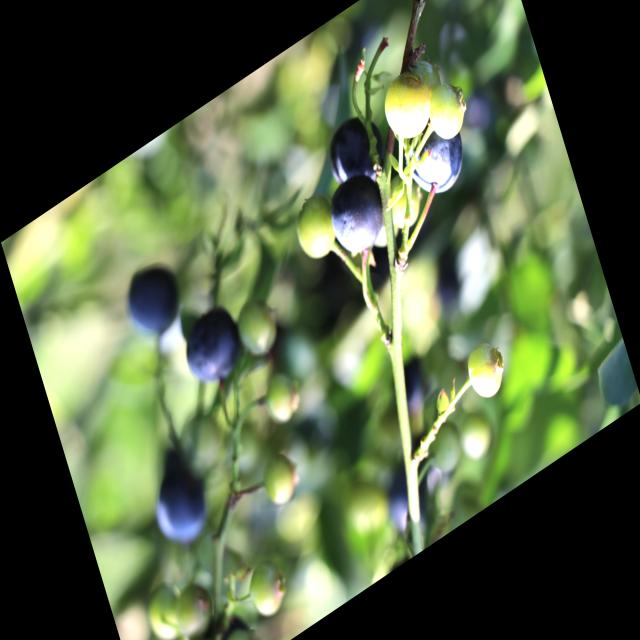blueberry: (144, 451, 219, 560), (321, 162, 395, 268), (400, 107, 474, 212), (177, 298, 250, 401), (120, 248, 188, 350), (320, 102, 391, 198)
blueberry-unripe: (376, 58, 438, 150), (230, 285, 288, 369), (459, 330, 515, 411), (290, 187, 344, 270), (424, 74, 471, 148), (244, 555, 290, 621), (261, 364, 305, 431), (170, 580, 218, 640), (261, 448, 303, 512)
